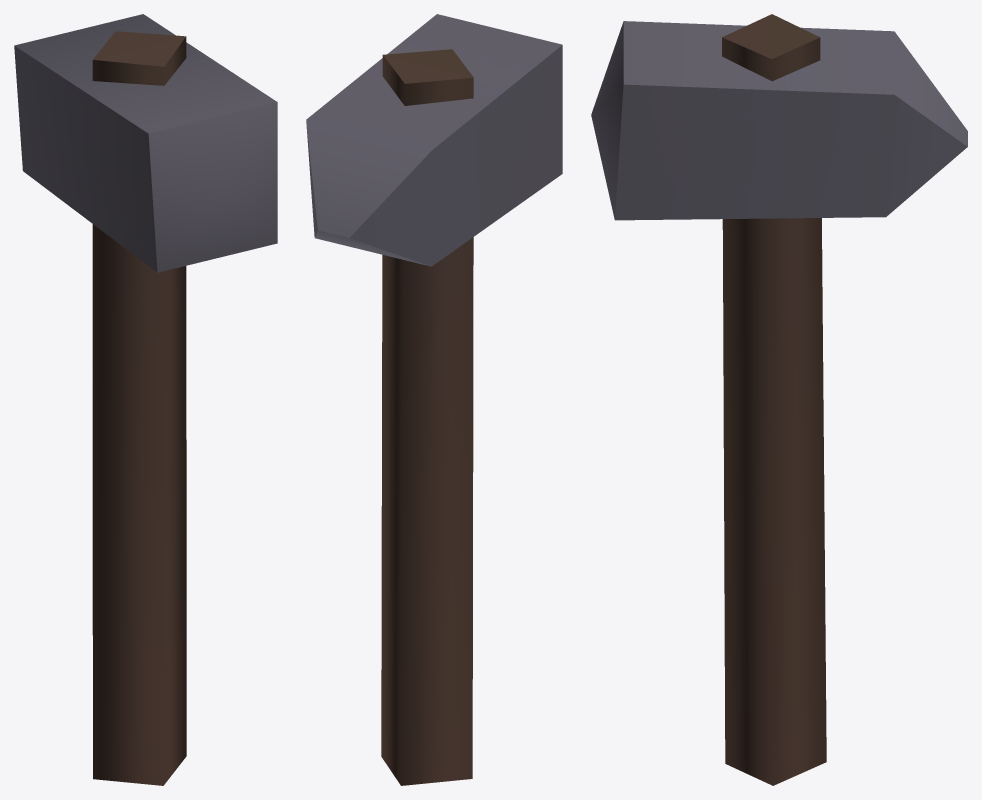
File: w_maul.FBX
The picture shows the model from 3 angles, left to right: view 1: azimuth 30°, elevation 25°; view 2: azimuth 150°, elevation 25°; view 3: azimuth 270°, elevation 25°; orthographic projection. The views are drawn at different scales.
Visible parts, largest first — view 1: w_maul; view 2: w_maul; view 3: w_maul.
Boxes of the visible parts, x1=… form: w_maul: x1=14, y1=14, x2=277, y2=785; w_maul: x1=306, y1=14, x2=562, y2=785; w_maul: x1=591, y1=14, x2=967, y2=785.
Size of the model in its own units: 6.13 by 32.74 by 15.37.
1 material, 1 textured.
